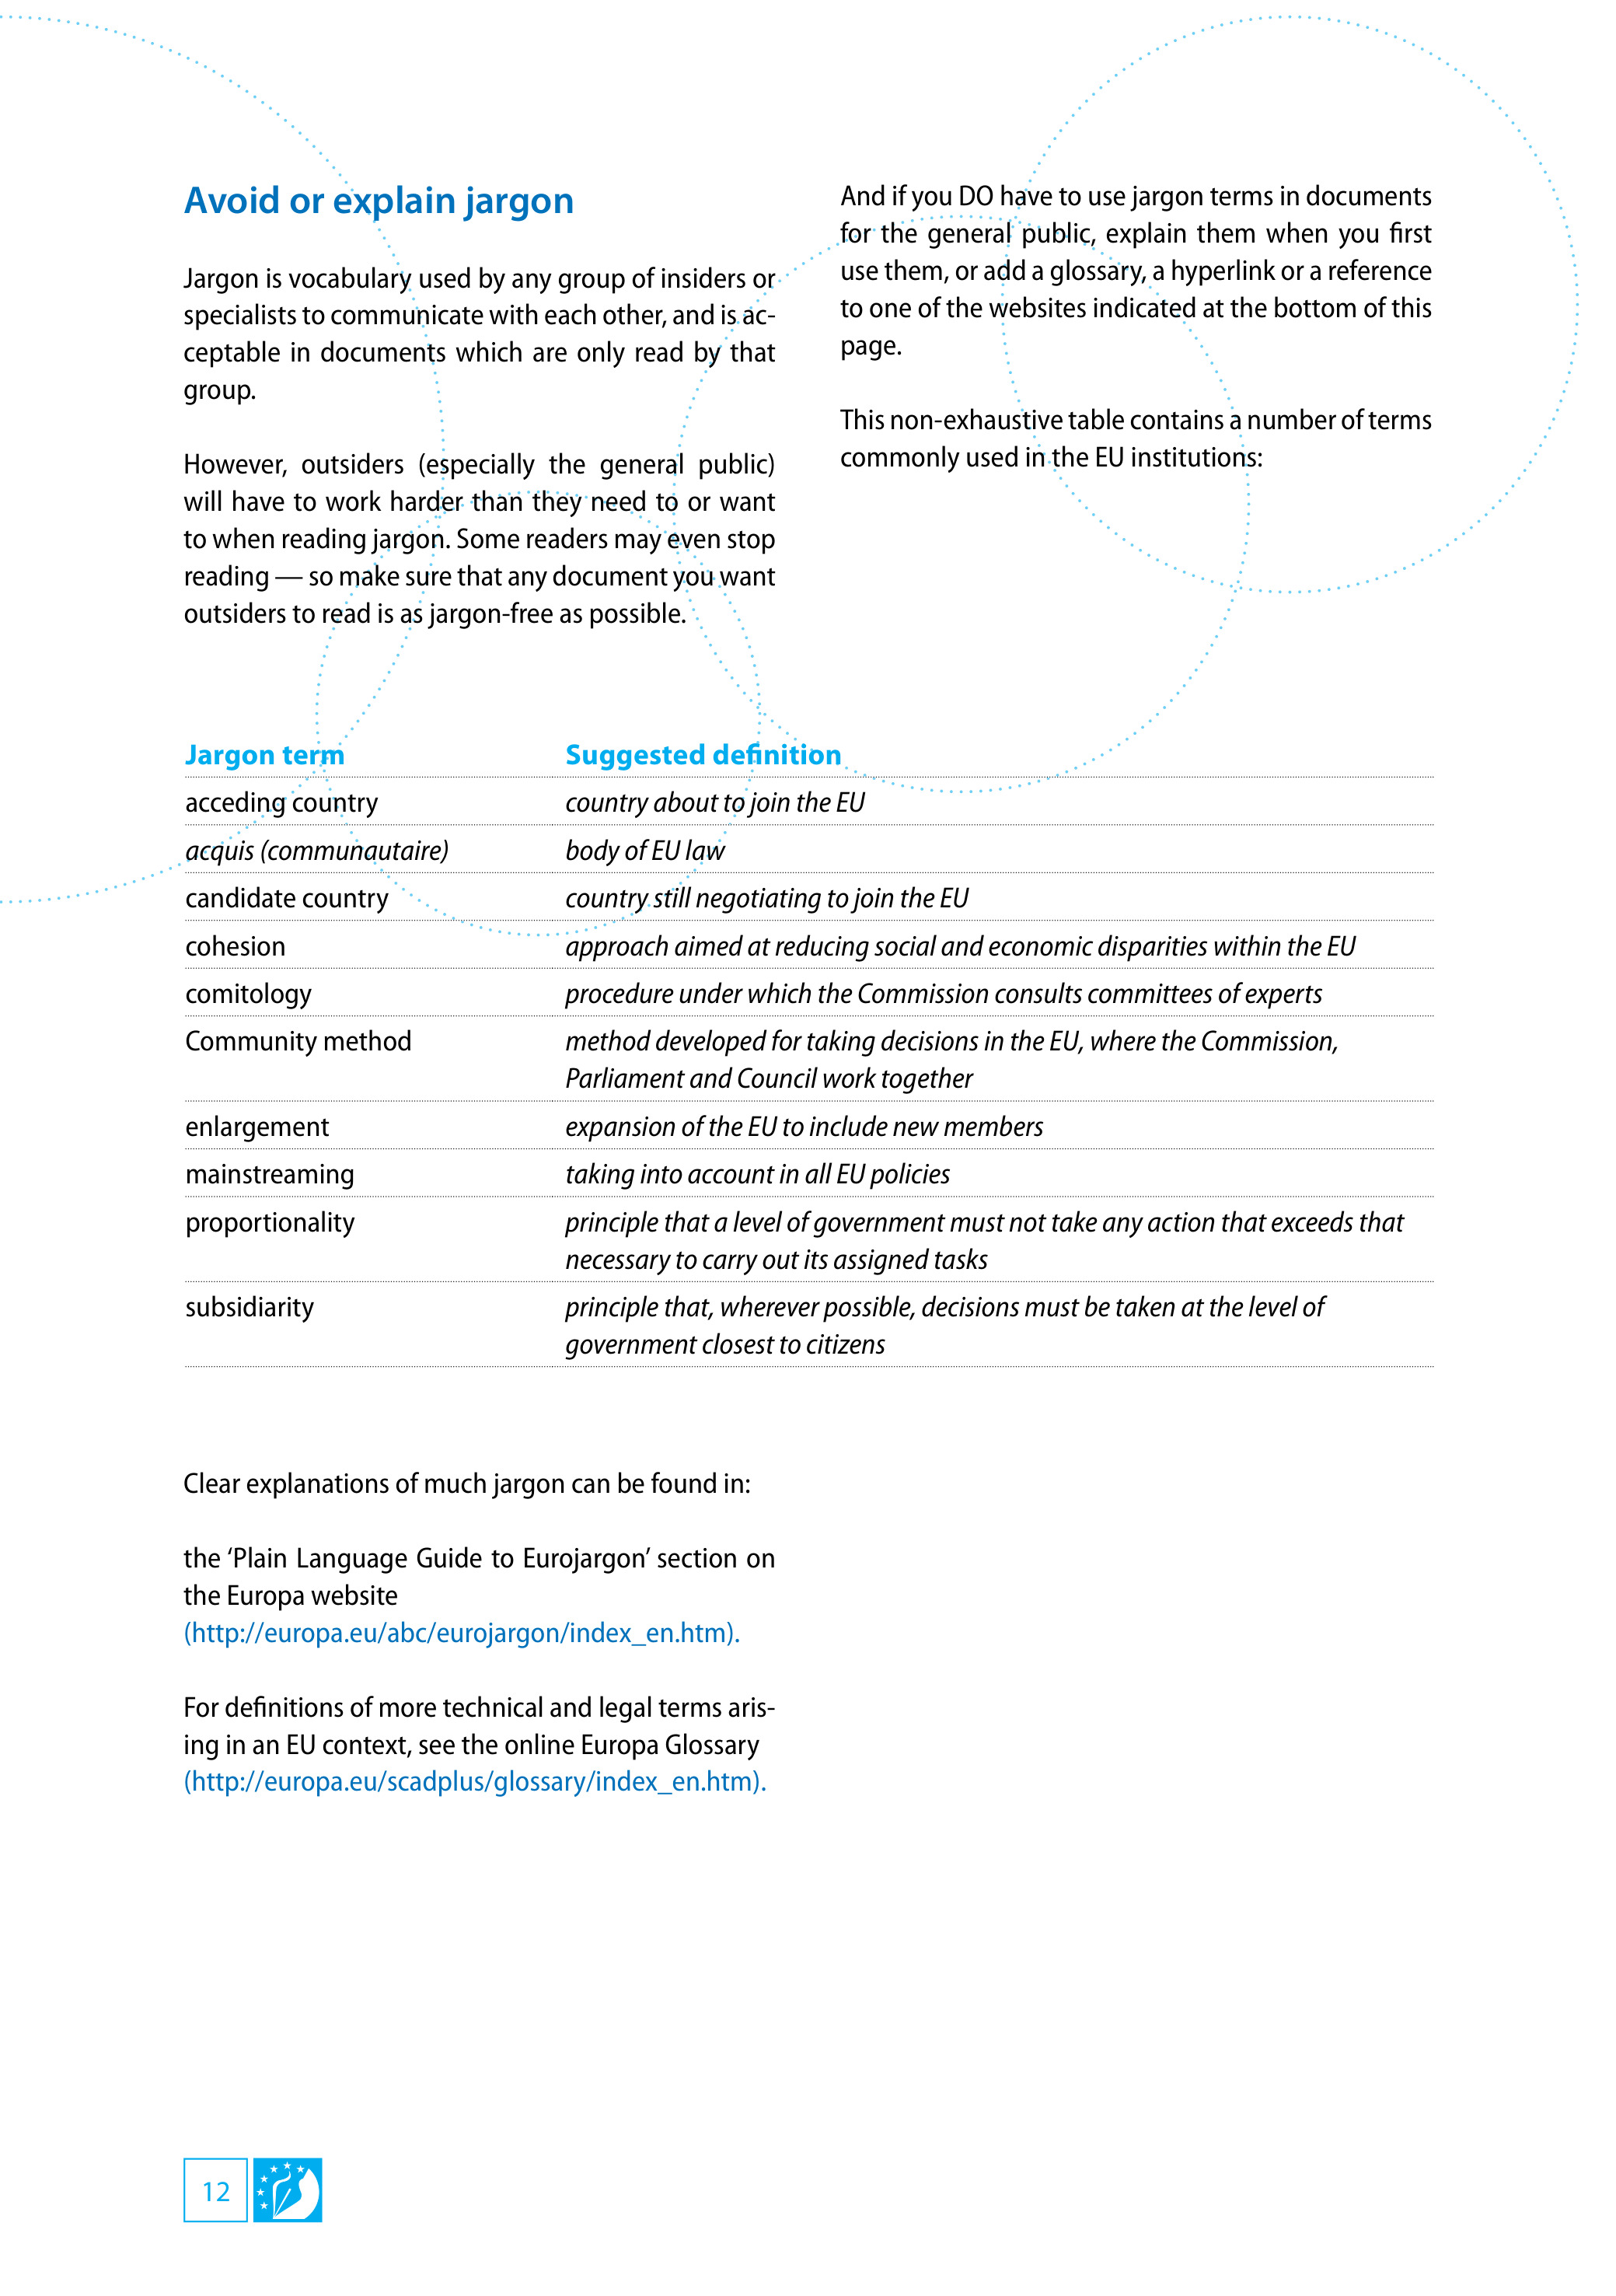table: (185, 734, 1404, 1360)
